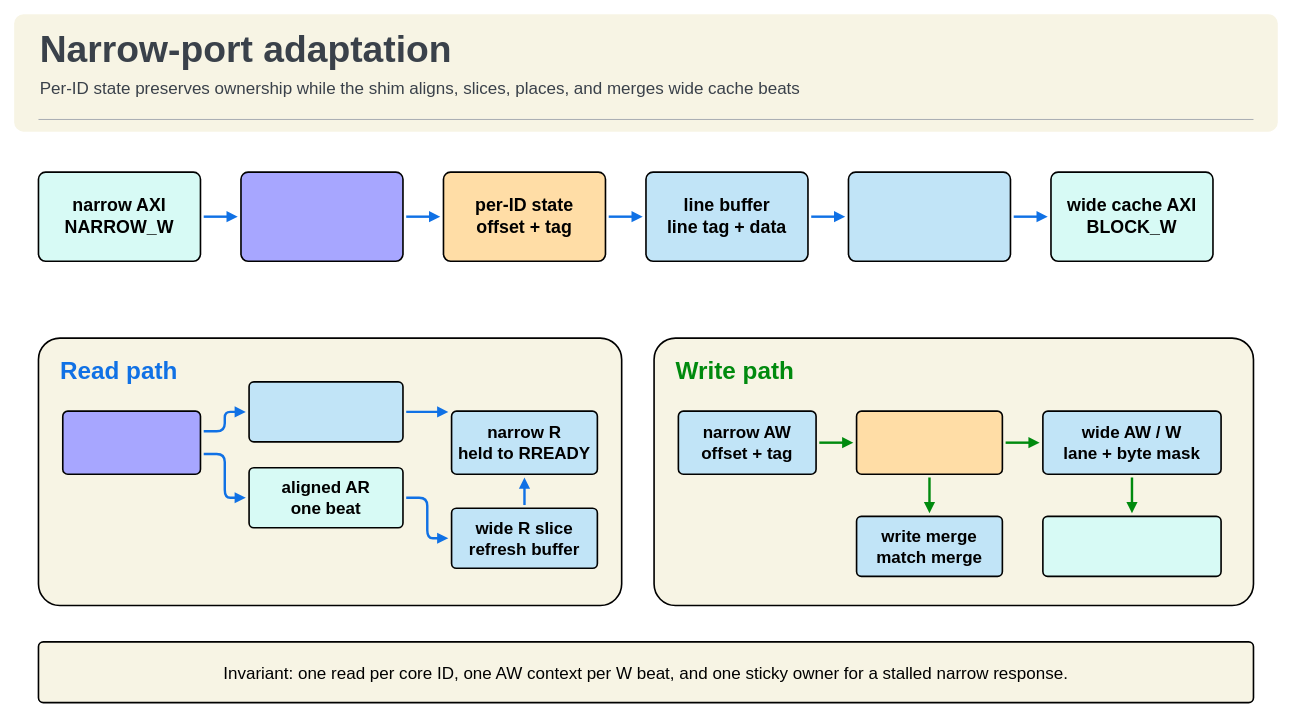
Some shapes in this 1291 by 717 pixel diagram are drawn without their labels. The shapes that lost their labels are listed below. From the top down, each one's centre as x and y in pixels, then its label:
At point 321,216: "read reorder optional read".
At point 929,216: "lane adapter slice + WSTRB".
At point 325,411: "buffer word no wide AR".
At point 131,442: "classify buffer hit?".
At point 929,442: "ordered FIFO AW → W context".
At point 1131,546: "B passthrough BID + BRESP".
